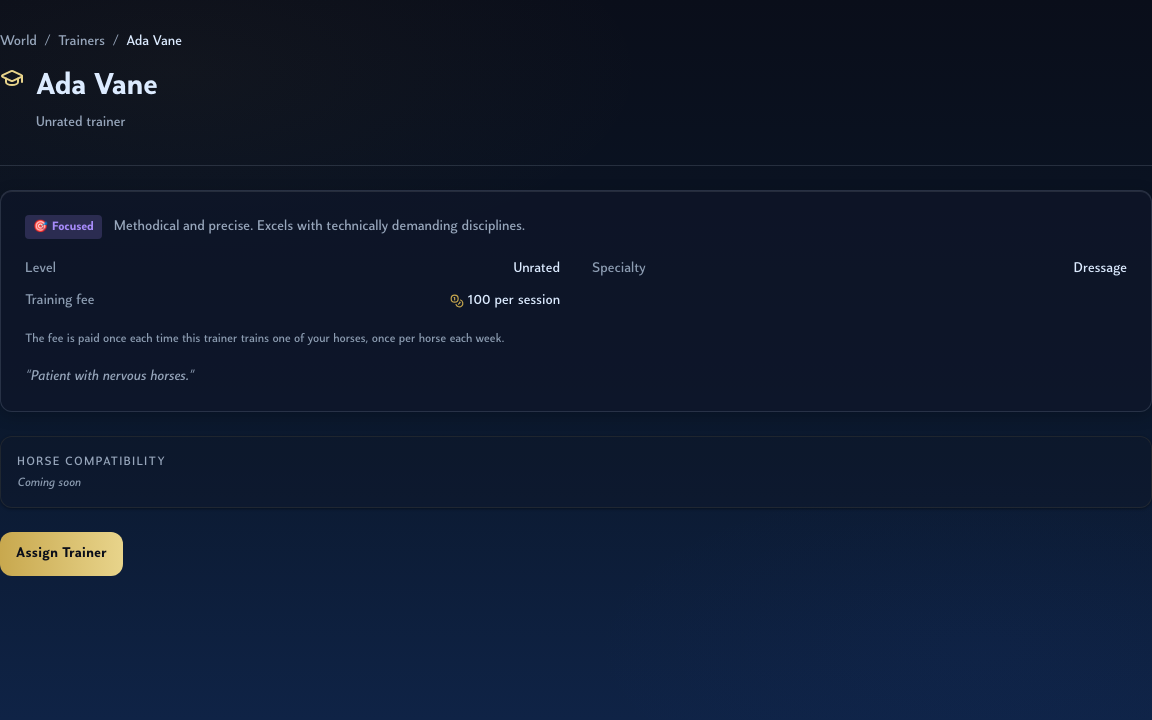
Test: TrainerPage — a trainer on offer (Equoria-r8a6h q82) › with no horse in view it asks which horse before it will assign
Click the button with test id "assign-trainer-button" at (62, 554), box 0,532 -> 123,576
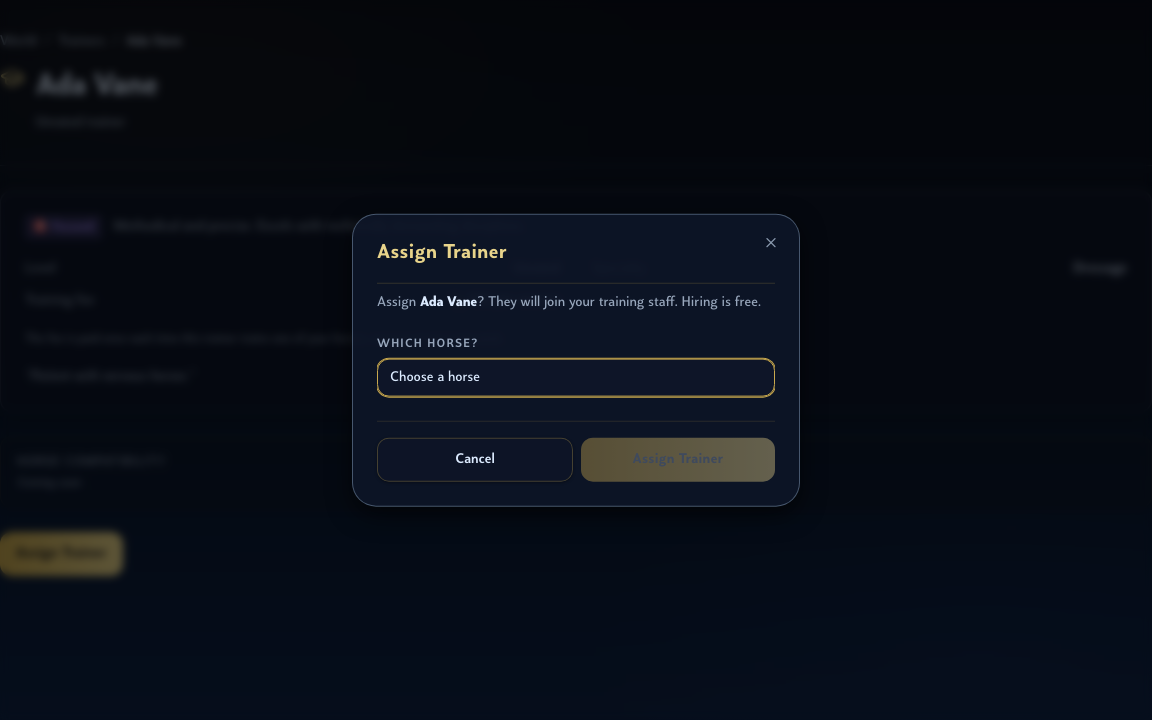
Expected: the button with test id "confirm-assign-button" is disabled, 581,437 -> 775,481
Select "Comet" in the dropdown labelled "Which horse?" at (576, 377), box 377,358 -> 775,396
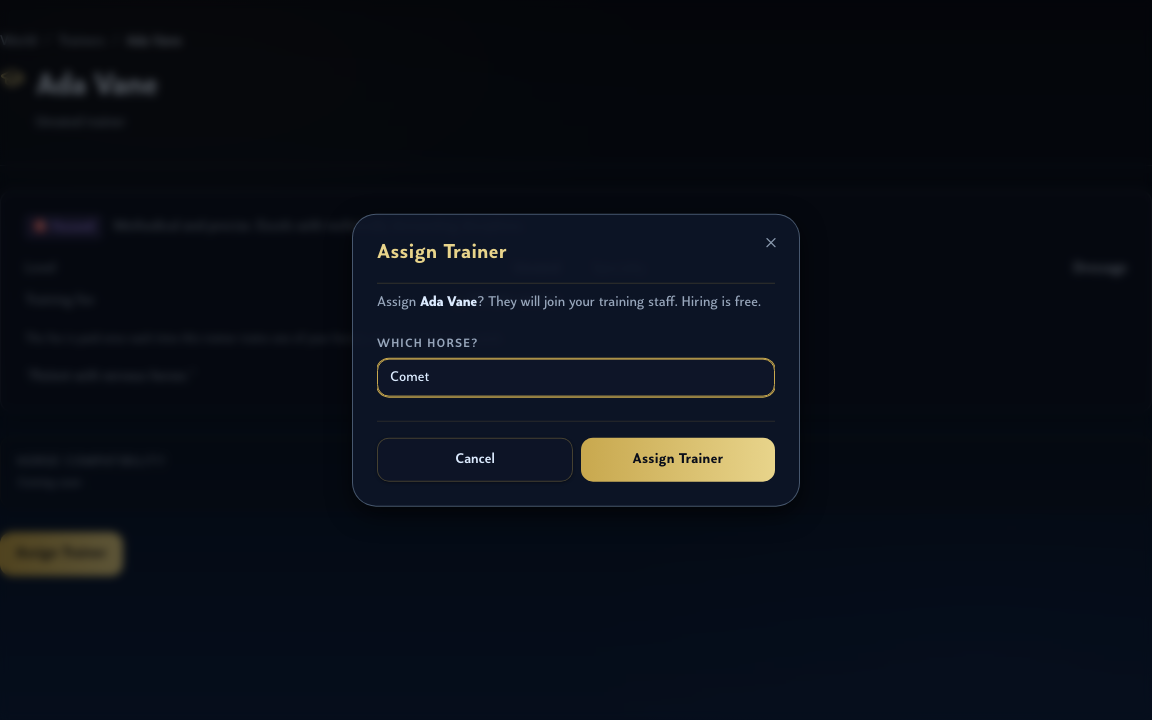
Expected: the button with test id "confirm-assign-button" is enabled, 581,437 -> 775,481
